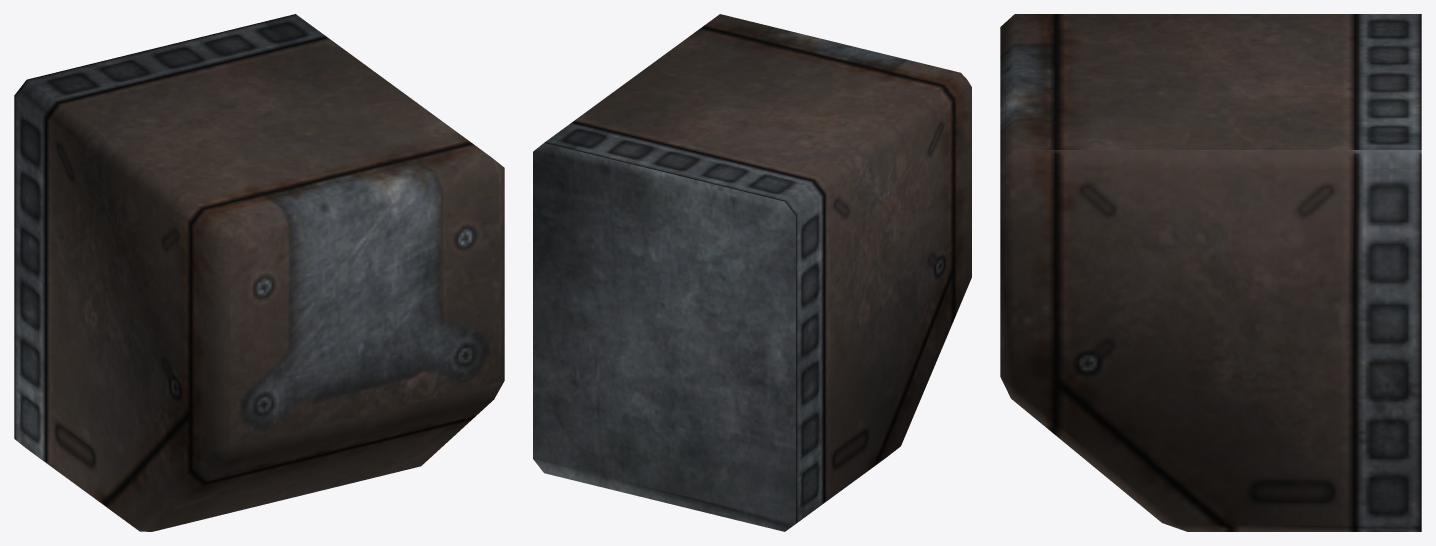
Rendered from living_area_welder_end_brown.dae.
3 views of the same model, side by side, from view 1: azimuth 30°, elevation 25°; view 2: azimuth 150°, elevation 25°; view 3: azimuth 270°, elevation 25° (orthographic). The views are drawn at different scales.
Visible parts, largest first — view 1: polySurface1; view 2: polySurface1; view 3: polySurface1.
Boxes of the visible parts, x1,y1,x2,y2 form: polySurface1: [14, 14, 504, 531]; polySurface1: [533, 14, 971, 531]; polySurface1: [1000, 14, 1421, 531].
Bounding box in the file's own units: 0.832 × 1 × 1.
1 material, 1 textured.
